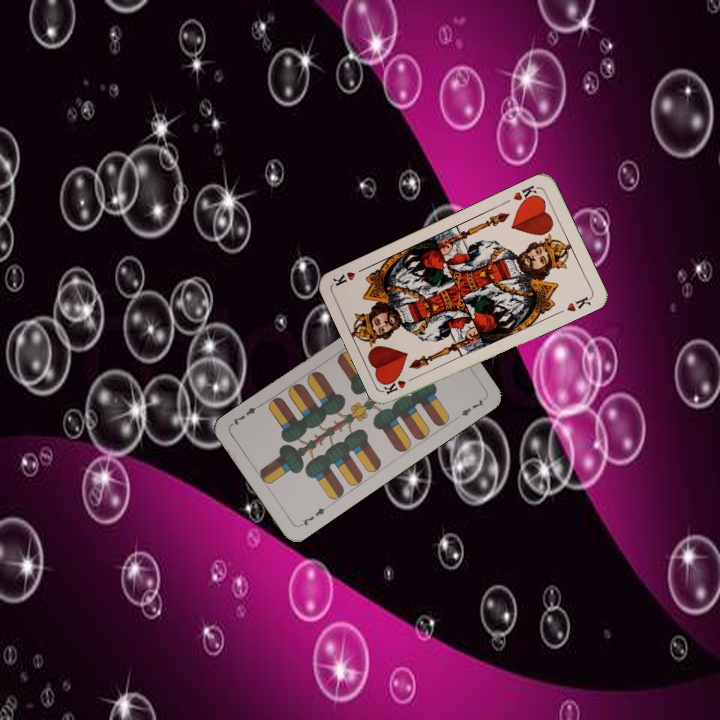E7: (296, 502, 332, 529)
HK: (381, 371, 420, 396), (509, 181, 541, 207)
